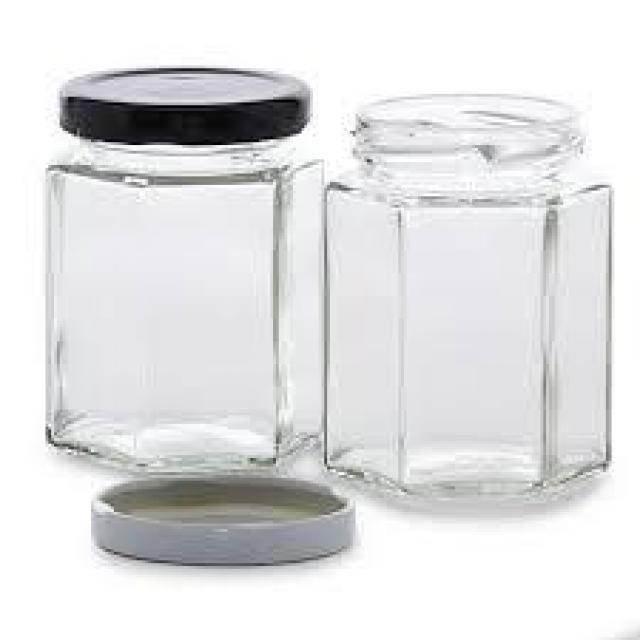non-organic waste: (316, 82, 620, 512), (36, 63, 320, 475)
